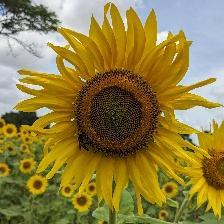sunflower: (35, 34, 202, 188), (181, 120, 224, 216), (29, 175, 51, 195), (73, 193, 94, 213), (161, 181, 180, 199), (19, 159, 37, 175), (87, 182, 103, 196), (63, 185, 77, 201), (159, 208, 171, 221), (5, 126, 17, 139), (1, 163, 10, 179), (8, 145, 19, 156), (28, 124, 35, 138), (1, 118, 6, 137), (22, 127, 30, 137), (21, 146, 29, 154), (17, 133, 23, 142), (25, 138, 32, 143)
